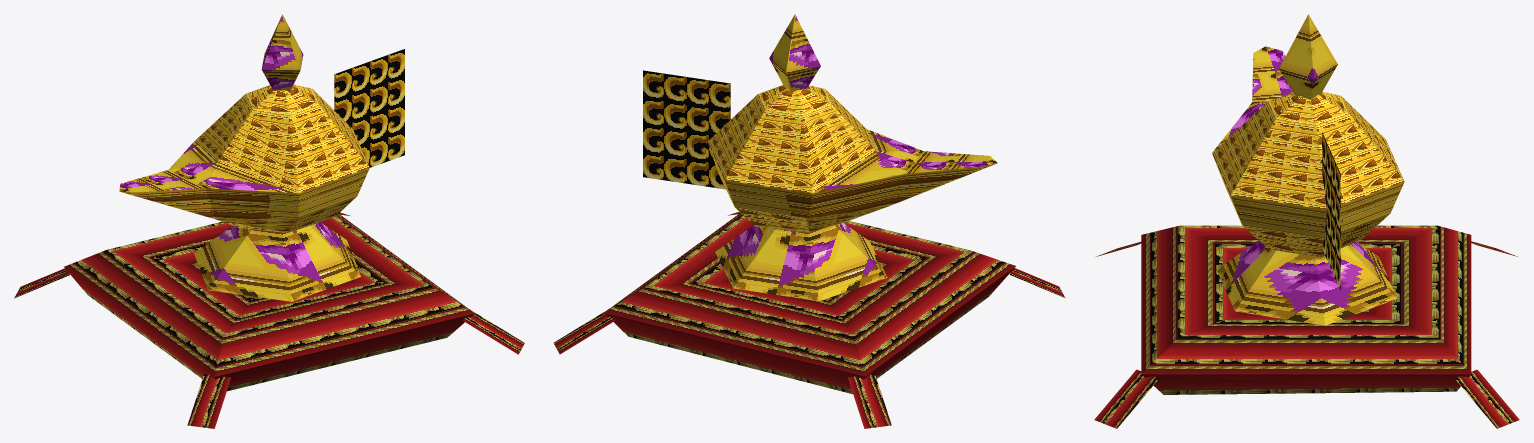
File: lamp.gltf
3 views of the same model, side by side, from view 1: azimuth 30°, elevation 25°; view 2: azimuth 150°, elevation 25°; view 3: azimuth 270°, elevation 25° (orthographic). The views are drawn at different scales.
Parts seen in each view (by area): view 1: lamp; view 2: lamp; view 3: lamp.
Part boxes in pixels (x1=…): lamp: x1=14, y1=14, x2=524, y2=428; lamp: x1=553, y1=14, x2=1064, y2=428; lamp: x1=1094, y1=14, x2=1519, y2=428.
Bounding box in the file's own units: 0.9988 × 0.856 × 0.9946.
Materials: 4 (4 with a texture image).
